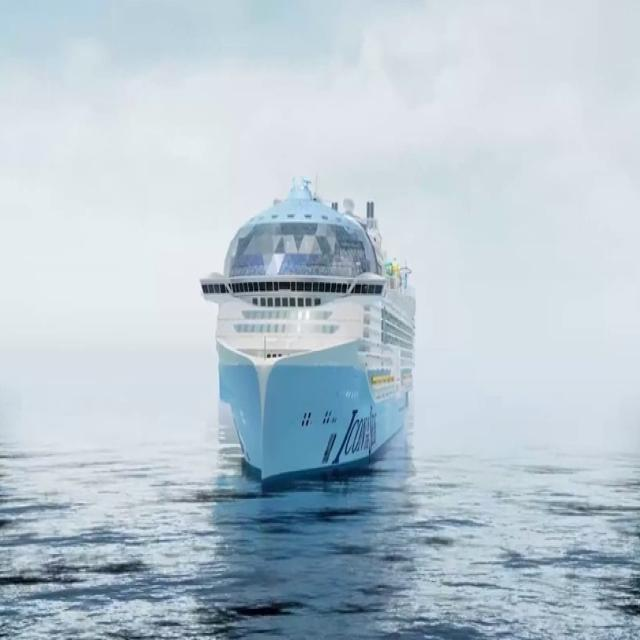passenger ship: (194, 169, 424, 477)
